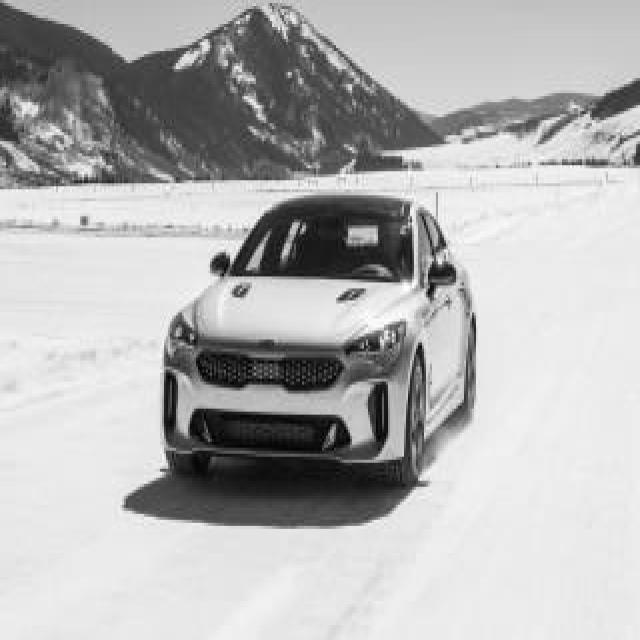Car: (162, 193, 476, 482)
